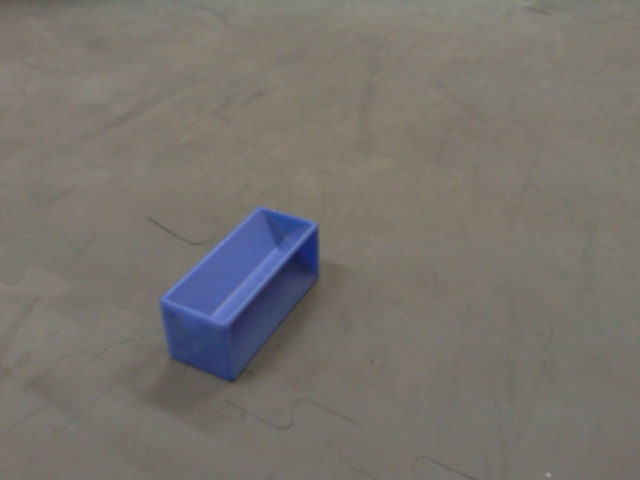BlueSample: (156, 204, 324, 390)
